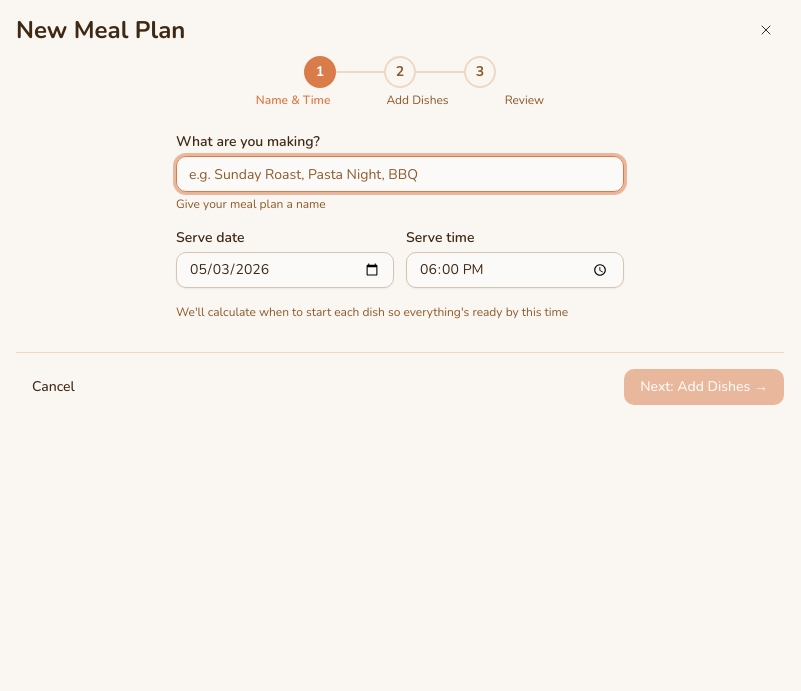
Test case: CreatePlanWizard › Step 2 — Add Dishes › adds a recipe when clicking its card
Type "Test Plan" into the field labelled "What are you making?" at (400, 174), box top-left (176, 156), bottom-right (624, 192)
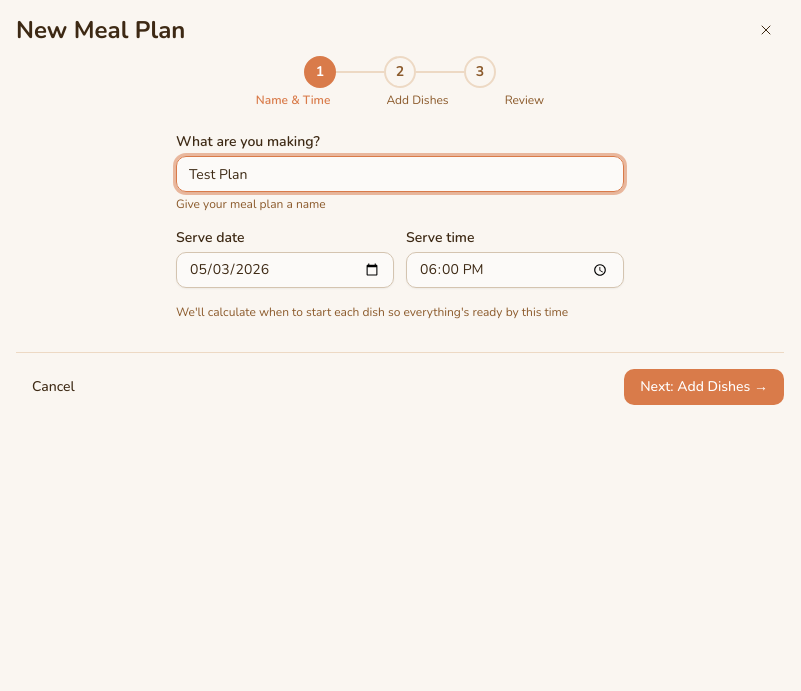
Click the button "Next: Add Dishes →" at (704, 387), box top-left (624, 369), bottom-right (784, 405)
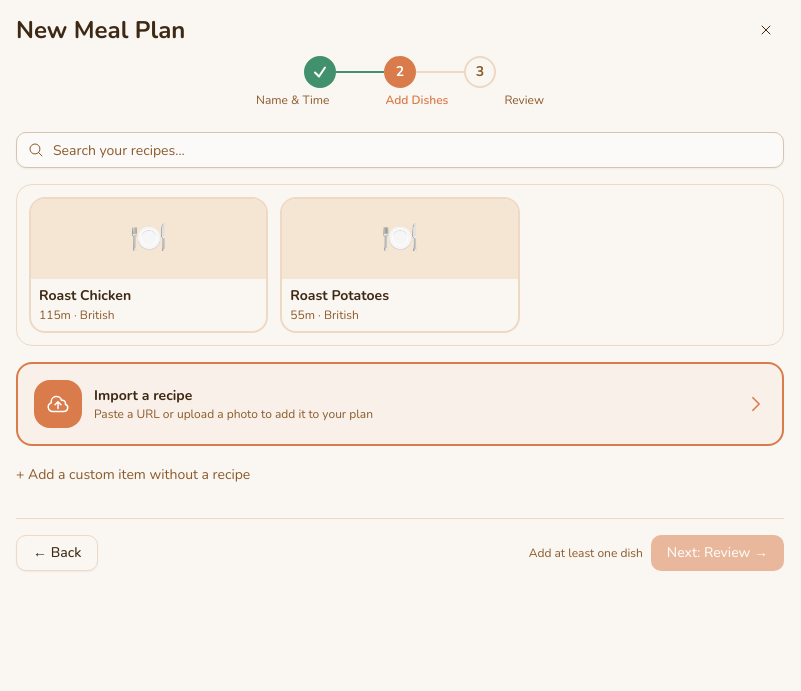
Click the button with aria-label "Add Roast Chicken to plan" at (149, 265), box top-left (29, 197), bottom-right (268, 332)
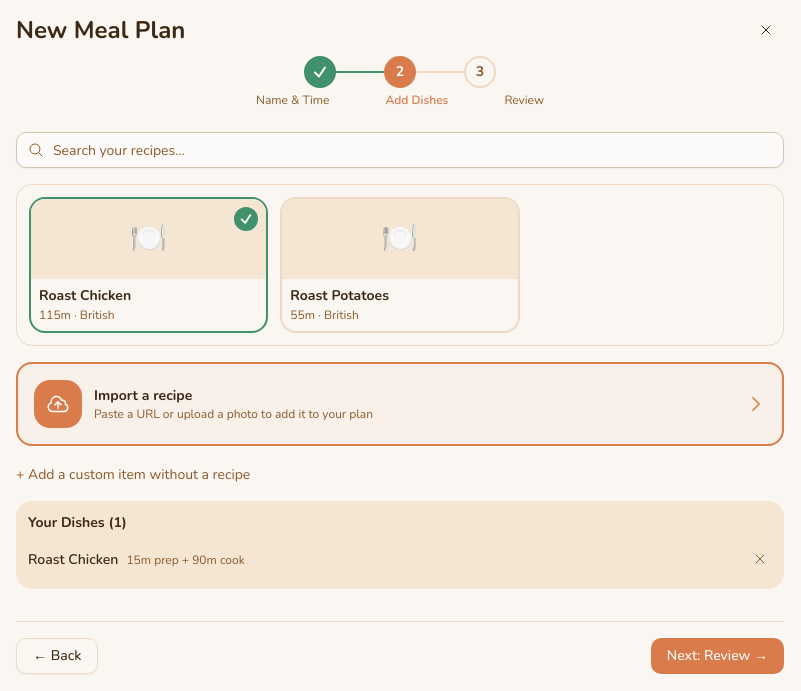
Expected: the text "Your Dishes (1)" is shown, top-left (28, 512), bottom-right (127, 532)
